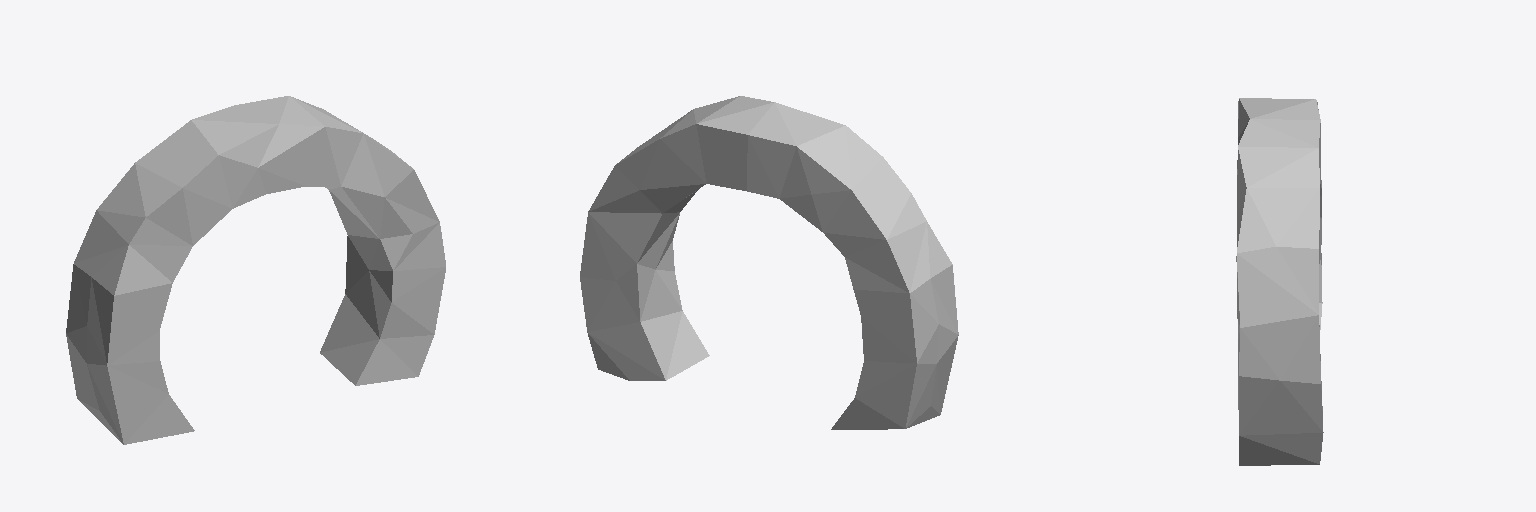
File: Arka_Low LOD2.obj
3 views of the same model, side by side, from view 1: azimuth 30°, elevation 25°; view 2: azimuth 150°, elevation 25°; view 3: azimuth 270°, elevation 25° (orthographic).
Parts seen in each view (by area): view 1: Arka_Low; view 2: Arka_Low; view 3: Arka_Low.
Boxes of the visible parts, x1=… form: Arka_Low: x1=66, y1=96, x2=445, y2=444; Arka_Low: x1=580, y1=96, x2=958, y2=429; Arka_Low: x1=1236, y1=98, x2=1323, y2=465.
Size of the model in its own units: 74.19 by 58.75 by 16.46.